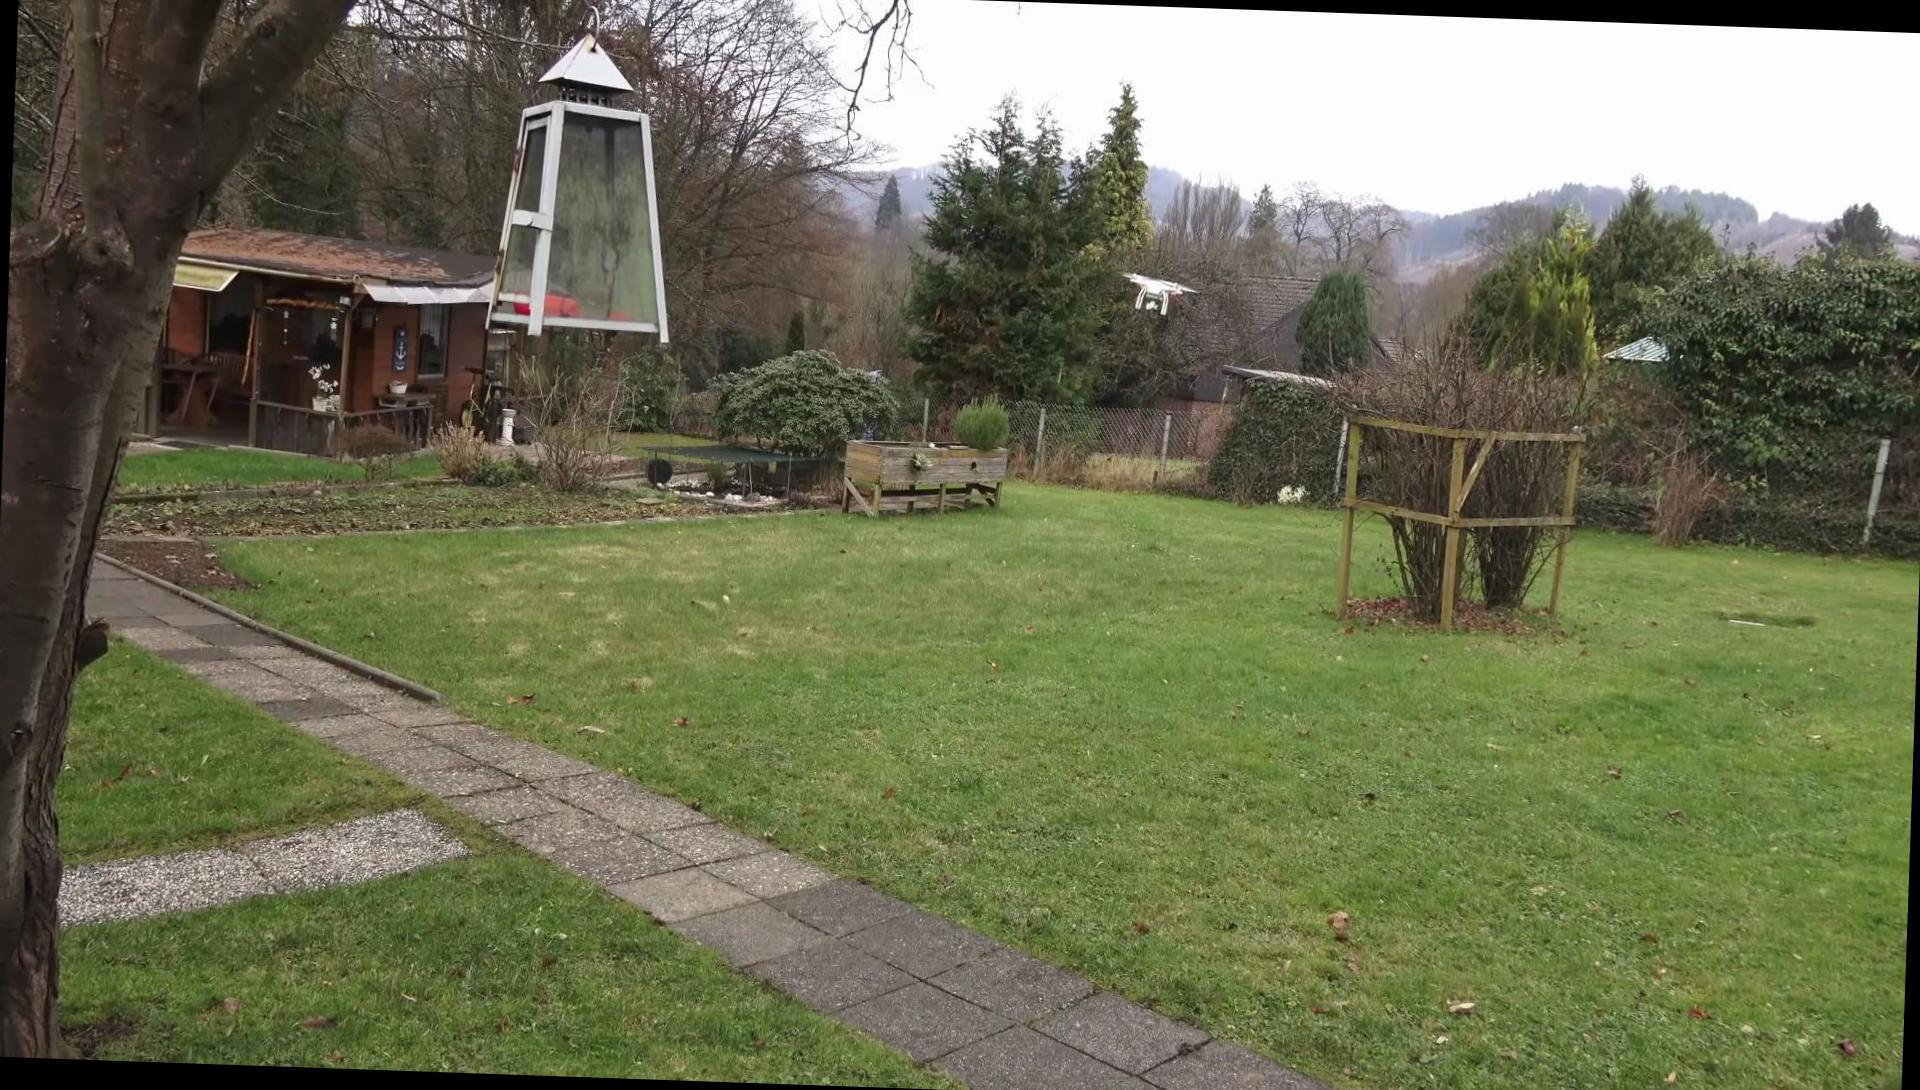drone: (1112, 261, 1195, 319)
